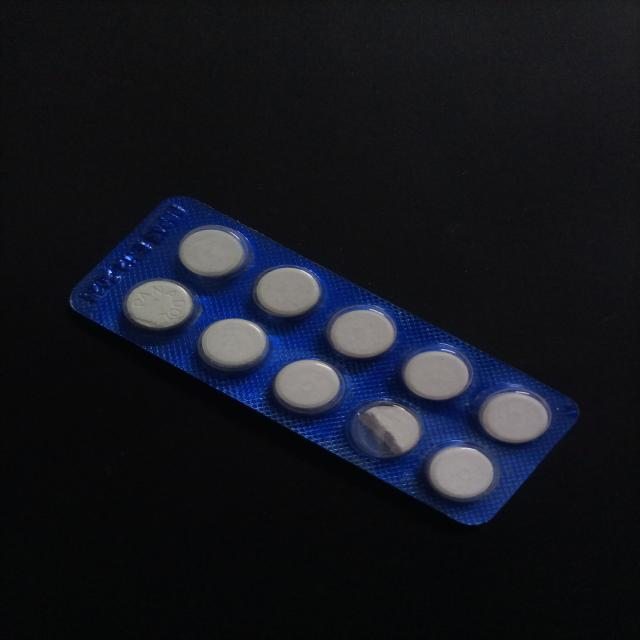defect: (344, 397, 426, 462)
